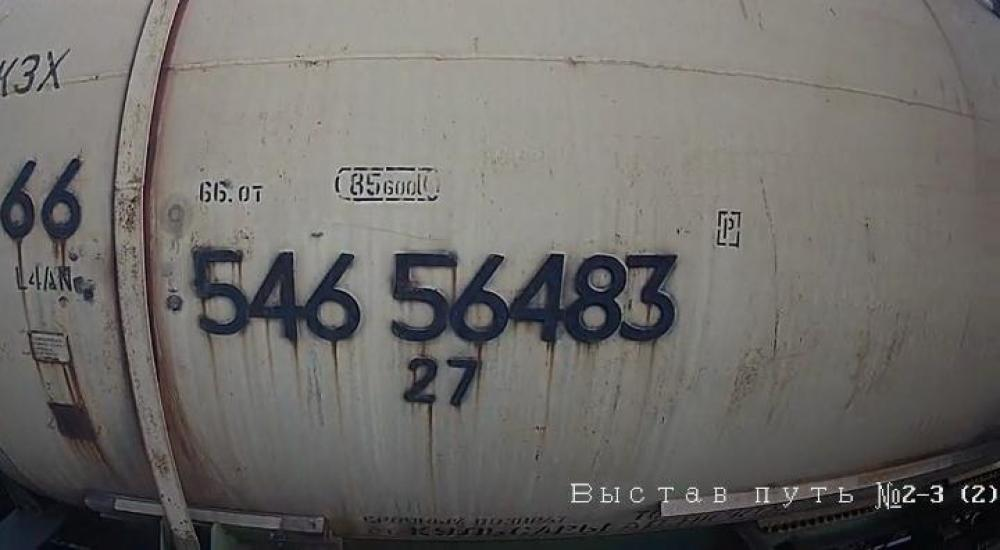Wagon-number: (187, 242, 686, 350)
